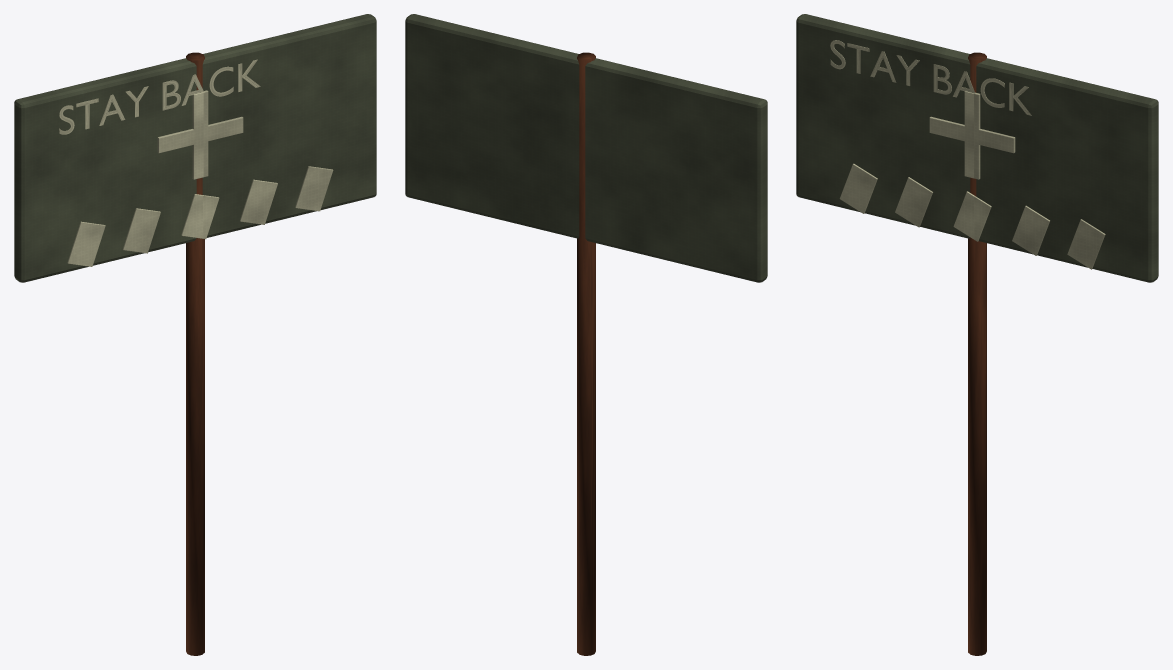
The model's file is warning_sign.glb.
3 renders of one model, left to right at view 1: azimuth 30°, elevation 25°; view 2: azimuth 150°, elevation 25°; view 3: azimuth 330°, elevation 25°, orthographic.
Visible parts, largest first — view 1: Sign_panel, Steel_post, SR_Warning_lettering, Warning_cross, Warning_cross.001, Hazard_stripe, Hazard_stripe.003, Hazard_stripe.001, Hazard_stripe.004, Hazard_stripe.002; view 2: Sign_panel, Steel_post; view 3: Sign_panel, Steel_post, SR_Warning_lettering, Warning_cross, Warning_cross.001, Hazard_stripe, Hazard_stripe.002, Hazard_stripe.004, Hazard_stripe.001, Hazard_stripe.003.
Part boxes in pixels (x1,y1,x2,y2): Sign_panel: [14, 14, 376, 282]; Steel_post: [186, 52, 204, 655]; SR_Warning_lettering: [59, 59, 260, 134]; Warning_cross: [157, 116, 243, 153]; Warning_cross.001: [192, 90, 208, 179]; Hazard_stripe: [67, 221, 105, 266]; Hazard_stripe.003: [240, 179, 277, 224]; Hazard_stripe.001: [122, 208, 160, 253]; Hazard_stripe.004: [295, 166, 333, 211]; Hazard_stripe.002: [181, 194, 219, 239]; Sign_panel: [405, 14, 767, 282]; Steel_post: [577, 52, 595, 655]; Sign_panel: [796, 14, 1158, 282]; Steel_post: [968, 52, 986, 655]; SR_Warning_lettering: [830, 40, 1031, 115]; Warning_cross: [929, 116, 1015, 153]; Warning_cross.001: [964, 91, 980, 179]; Hazard_stripe: [839, 163, 877, 213]; Hazard_stripe.002: [953, 191, 991, 241]; Hazard_stripe.004: [1067, 219, 1105, 269]; Hazard_stripe.001: [895, 177, 932, 227]; Hazard_stripe.003: [1012, 205, 1049, 255].
Bounding box in the file's own units: 1.1 × 1.75 × 0.0548.
Materials: 3 (3 with a texture image).
